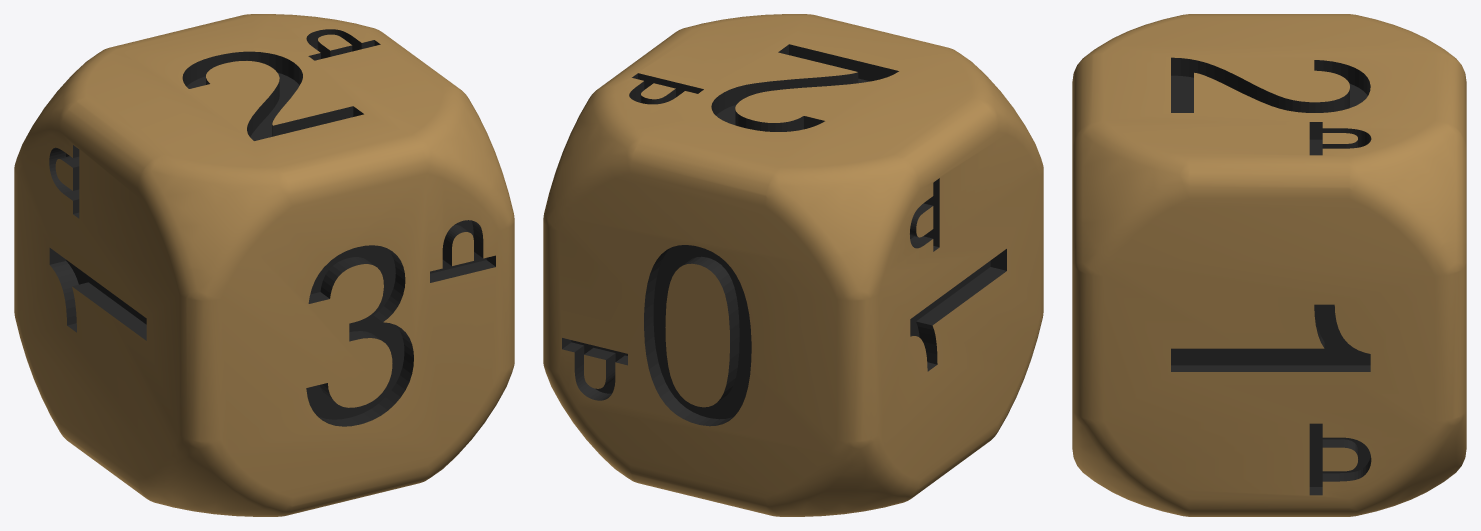
File: Die Door Numbered.glb
The picture shows the model from 3 angles, left to right: view 1: azimuth 30°, elevation 25°; view 2: azimuth 150°, elevation 25°; view 3: azimuth 270°, elevation 25°; orthographic projection. The views are drawn at different scales.
Parts seen in each view (by area): view 1: Die_Body; view 2: Die_Body; view 3: Die_Body.
Part boxes in pixels (bbox=[...]): Die_Body: bbox=[14, 14, 514, 516]; Die_Body: bbox=[543, 14, 1043, 516]; Die_Body: bbox=[1072, 14, 1466, 516].
Bounding box in the file's own units: 1 × 1 × 1.
